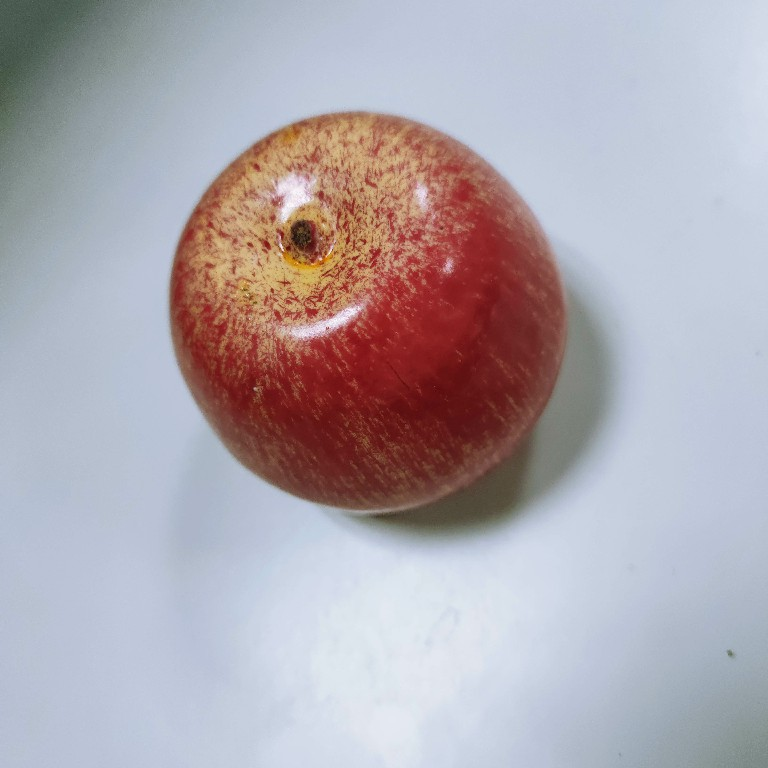fruit_apple: (162, 104, 575, 522)
